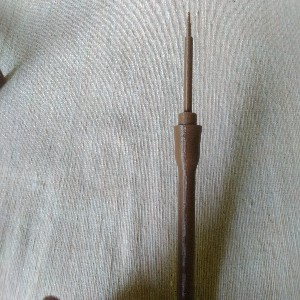solder: (172, 9, 204, 300)
